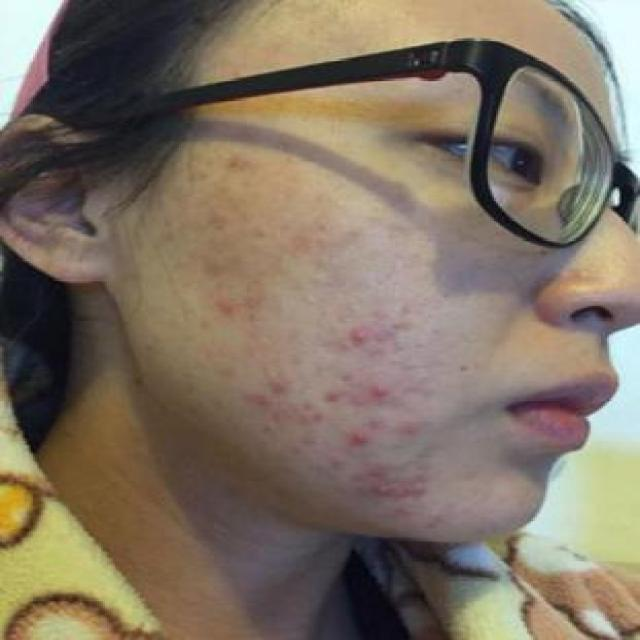dark spot: (284, 398, 331, 436), (212, 288, 245, 324), (235, 390, 278, 416), (404, 472, 434, 502), (321, 378, 348, 409), (220, 154, 259, 175), (364, 458, 395, 478), (323, 451, 348, 474)
papules: (340, 323, 380, 348), (368, 377, 395, 405), (343, 424, 372, 450), (264, 375, 296, 394), (368, 483, 399, 502)
